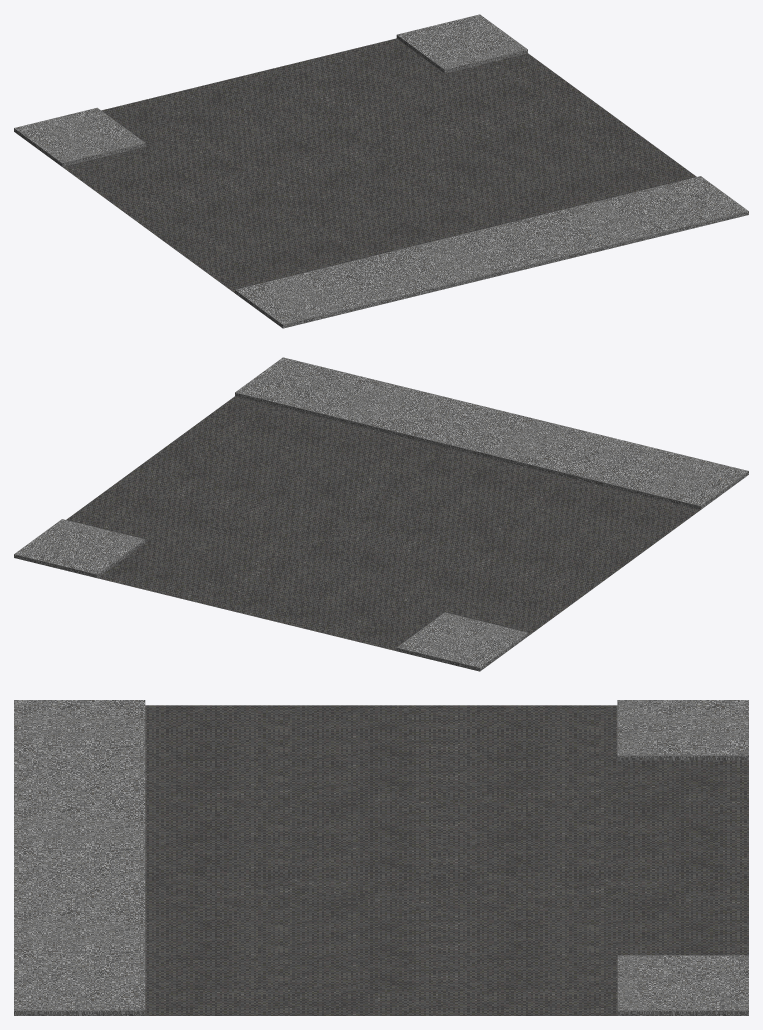
The model's file is Road_T.glb.
3 renders of one model, top to bottom at view 1: azimuth 30°, elevation 25°; view 2: azimuth 150°, elevation 25°; view 3: azimuth 270°, elevation 25°, orthographic. The views are drawn at different scales.
Parts seen in each view (by area): view 1: Road_T; view 2: Road_T; view 3: Road_T.
Part boxes in pixels (box(x1,y1,x2,y2)): Road_T: box(14, 14, 748, 328); Road_T: box(14, 357, 748, 671); Road_T: box(14, 700, 748, 1015).
Bounding box in the file's own units: 15.57 × 0.1182 × 15.57.
2 materials, 2 textured.
